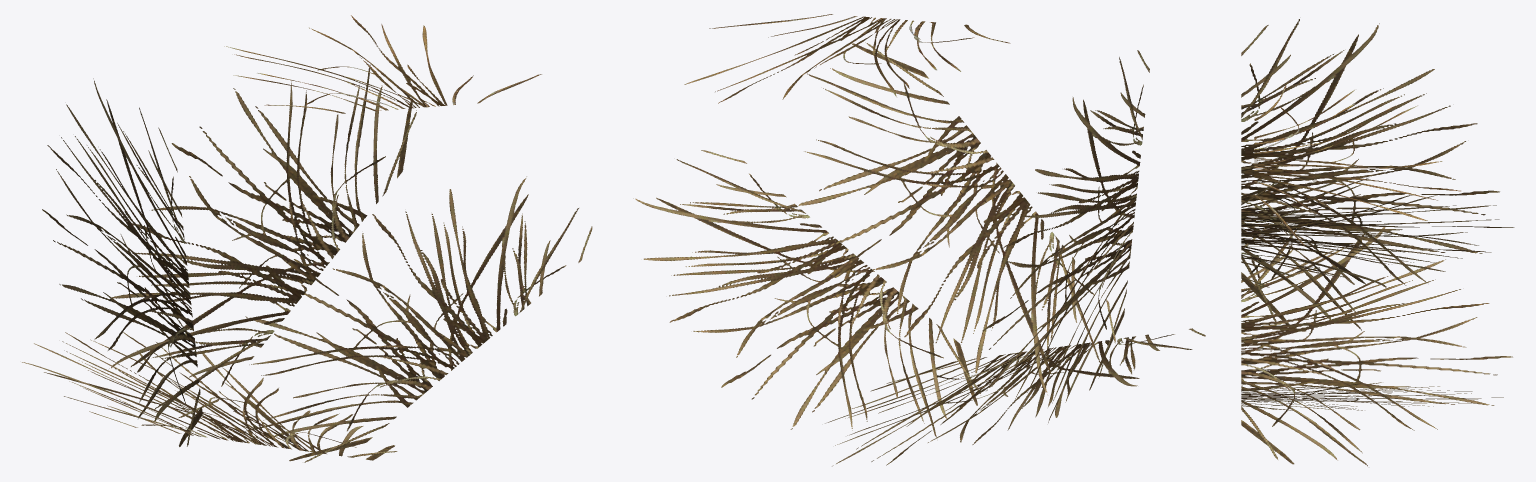
File: cao.FBX
The picture shows the model from 3 angles, left to right: view 1: azimuth 30°, elevation 25°; view 2: azimuth 150°, elevation 25°; view 3: azimuth 270°, elevation 25°; orthographic projection. The views are drawn at different scales.
Visible parts, largest first — view 1: Mesh_0281; view 2: Mesh_0281; view 3: Mesh_0281.
Part boxes in pixels (<box>): Mesh_0281: <box>22,15,592,462</box>; Mesh_0281: <box>633,14,1205,466</box>; Mesh_0281: <box>1241,19,1514,466</box>.
Bounding box in the file's own units: 1.62 × 1.19 × 0.8725.
Materials: 1 (1 with a texture image).
